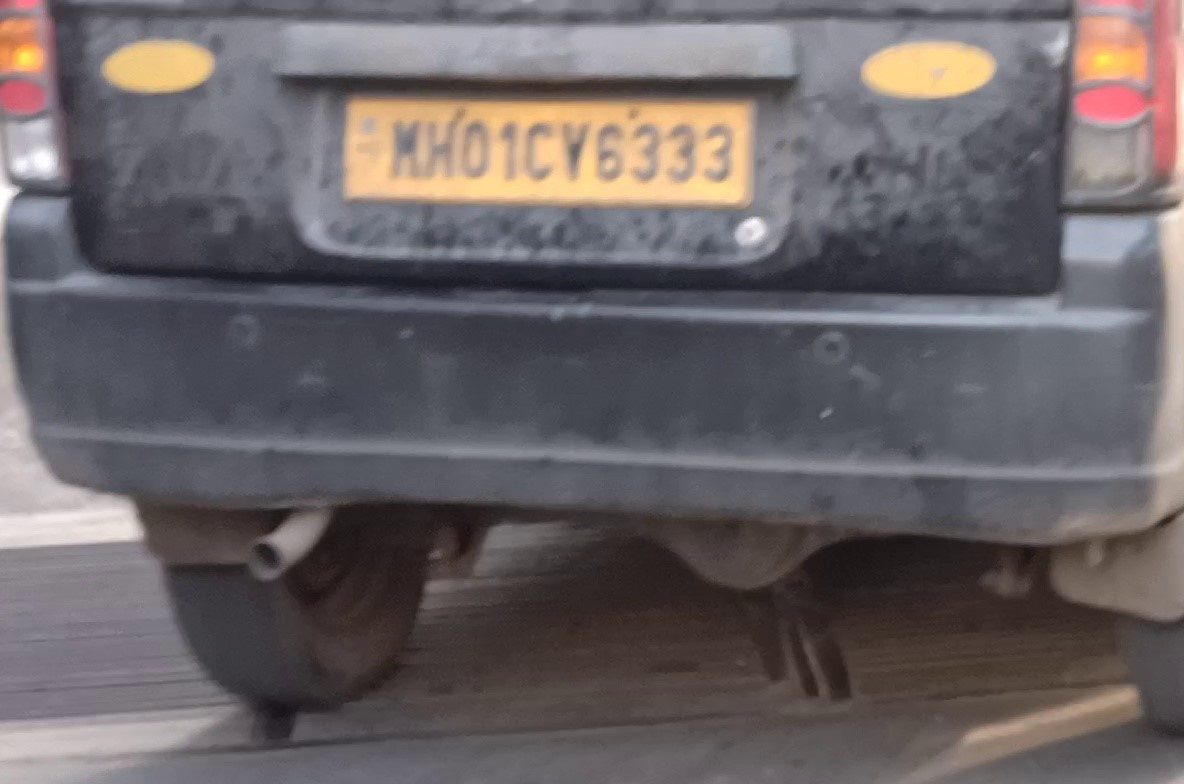MH01CV6333: (340, 90, 756, 209)
